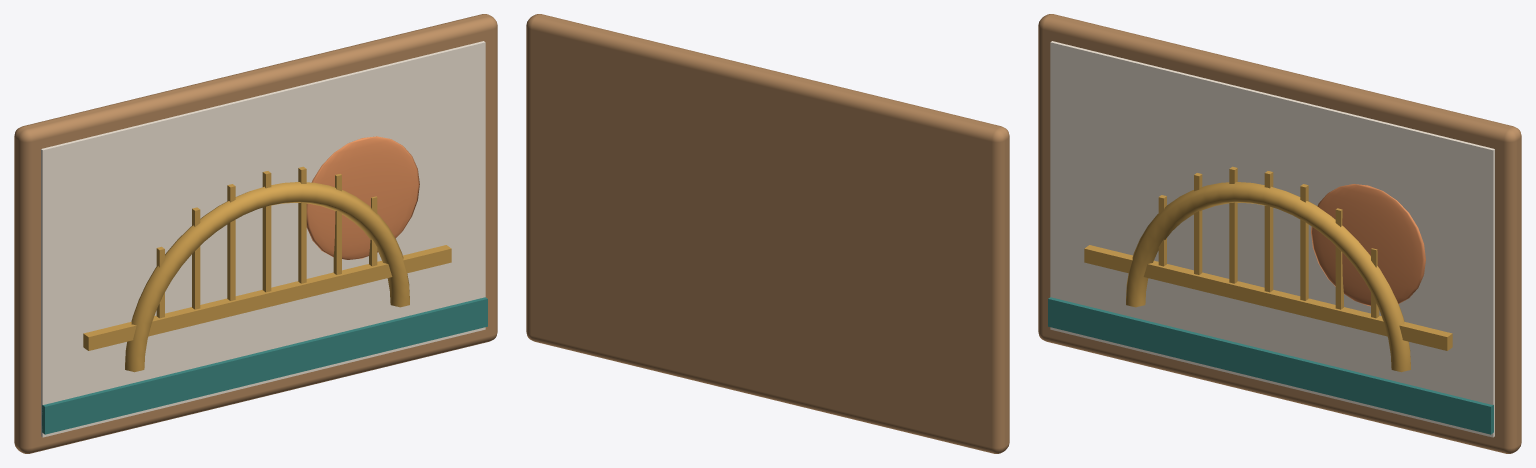
File: art-merchant-bridge.glb
The picture shows the model from 3 angles, left to right: view 1: azimuth 30°, elevation 25°; view 2: azimuth 150°, elevation 25°; view 3: azimuth 330°, elevation 25°; orthographic projection.
Parts seen in each view (by area): view 1: art-merchant-bridge_m_f7ecdc, art-merchant-bridge_m_b98d62, art-merchant-bridge_m_cfa04e, art-merchant-bridge_m_3f8c86, art-merchant-bridge_m_e8945e; view 2: art-merchant-bridge_m_b98d62; view 3: art-merchant-bridge_m_f7ecdc, art-merchant-bridge_m_b98d62, art-merchant-bridge_m_cfa04e, art-merchant-bridge_m_3f8c86, art-merchant-bridge_m_e8945e.
Boxes of the visible parts, x1,y1,x2,y2 form: art-merchant-bridge_m_f7ecdc: (41, 41, 485, 437); art-merchant-bridge_m_b98d62: (14, 14, 497, 453); art-merchant-bridge_m_cfa04e: (83, 166, 451, 372); art-merchant-bridge_m_3f8c86: (42, 297, 487, 434); art-merchant-bridge_m_e8945e: (306, 136, 419, 259); art-merchant-bridge_m_b98d62: (526, 14, 1009, 453); art-merchant-bridge_m_f7ecdc: (1050, 41, 1494, 437); art-merchant-bridge_m_b98d62: (1038, 14, 1521, 453); art-merchant-bridge_m_cfa04e: (1084, 166, 1452, 372); art-merchant-bridge_m_3f8c86: (1048, 297, 1493, 434); art-merchant-bridge_m_e8945e: (1311, 184, 1425, 306).
Bounding box in the file's own units: 1.08 × 0.7 × 0.0891.
